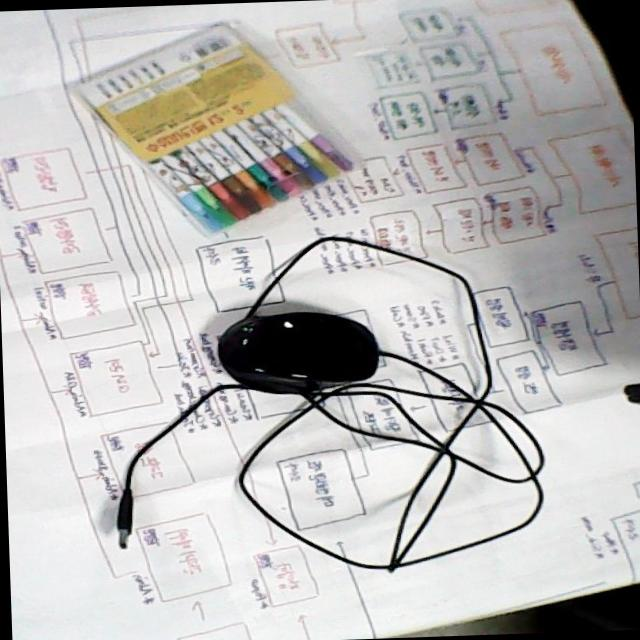mouse: (211, 302, 386, 398)
signpen: (59, 15, 364, 245)
